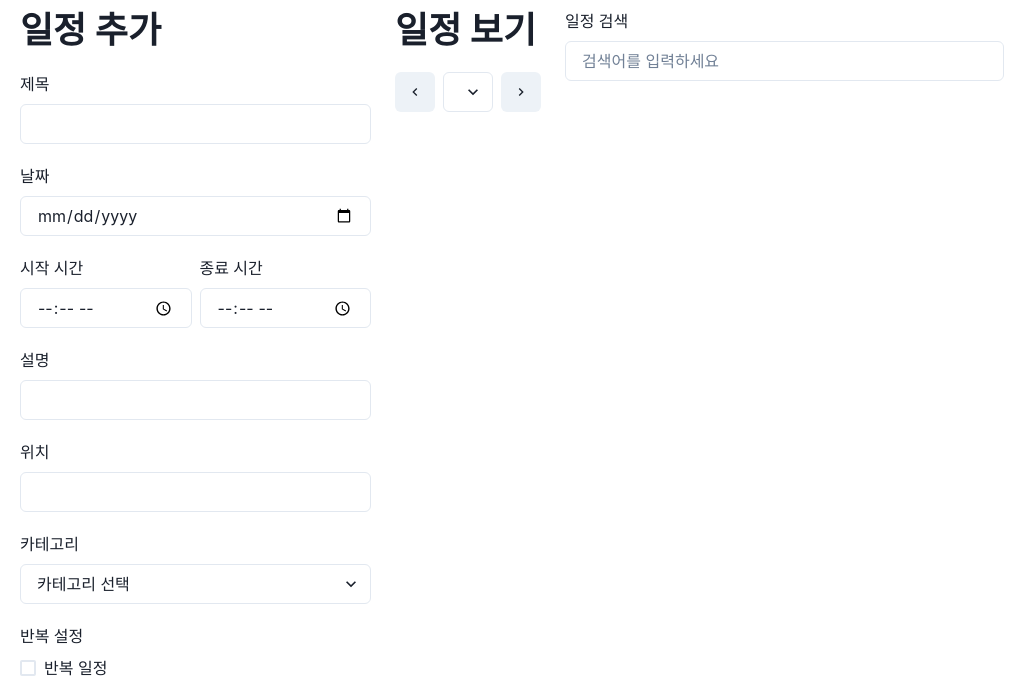
Test case: 반복 유형 선택 › 일정 생성 시 반복 유형을 선택할 수 있다.
Click the checkbox labelled "반복 설정" at [52, 636], box [20,626,83,646]
(page scrolled)
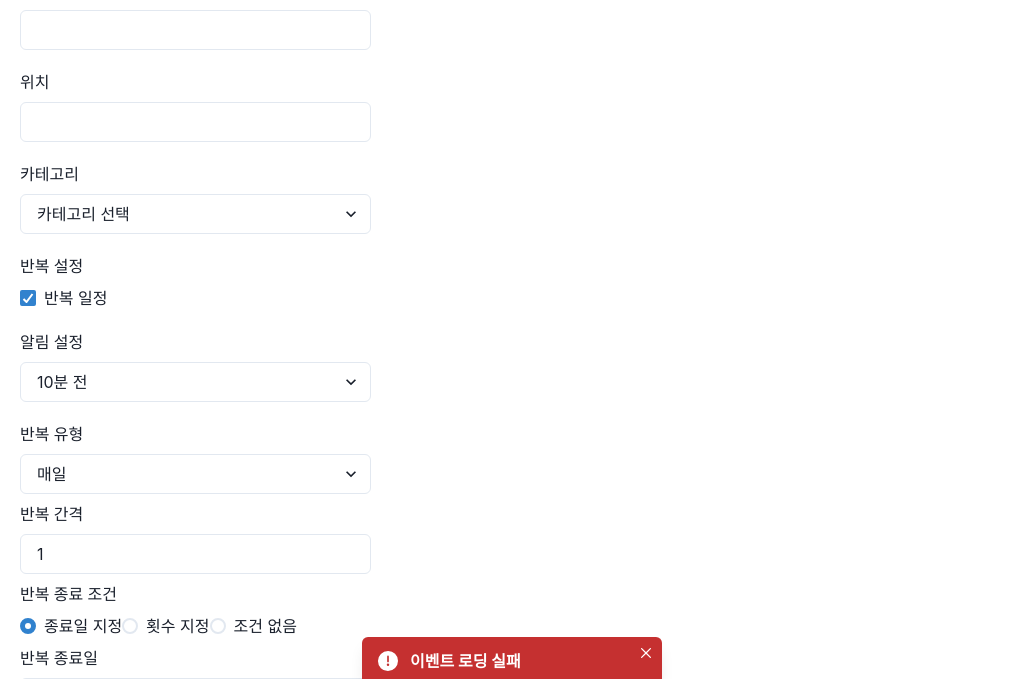
Expected: the dropdown labelled "반복 유형" is shown, [20,454,371,494]
